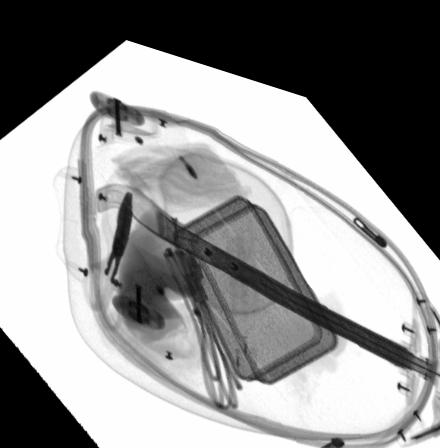Scissors: (80, 183, 134, 328)
